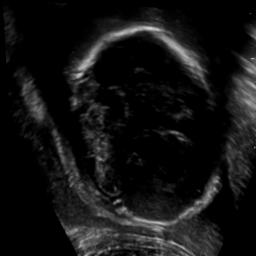normal: (61, 19, 231, 225)
